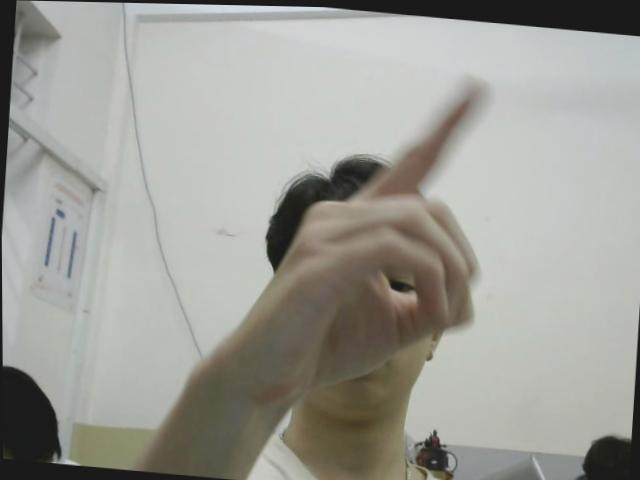D: (240, 55, 501, 411)
